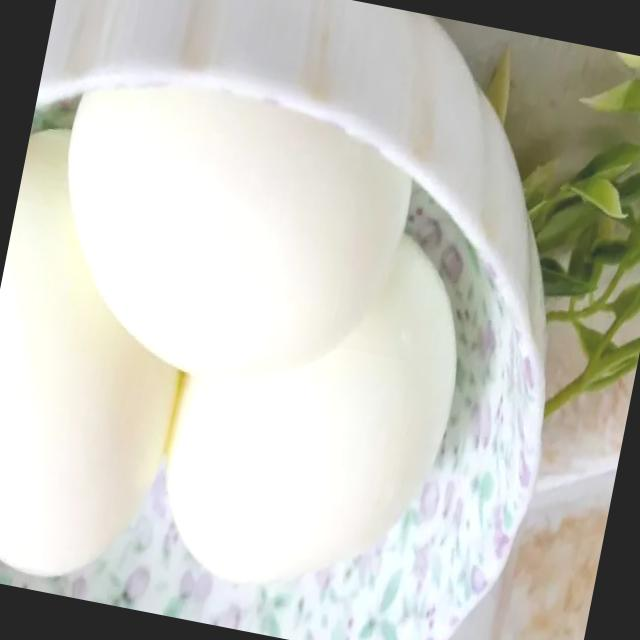trung luoc: (166, 237, 456, 585), (68, 84, 409, 375), (0, 132, 176, 576)
